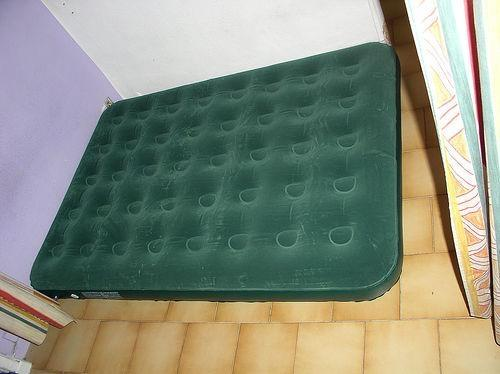Bed-Mattress: (27, 35, 406, 311)
